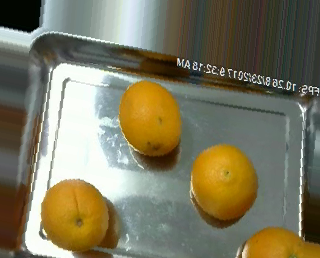Orange: (190, 143, 260, 219), (40, 177, 109, 252), (118, 78, 182, 156)
